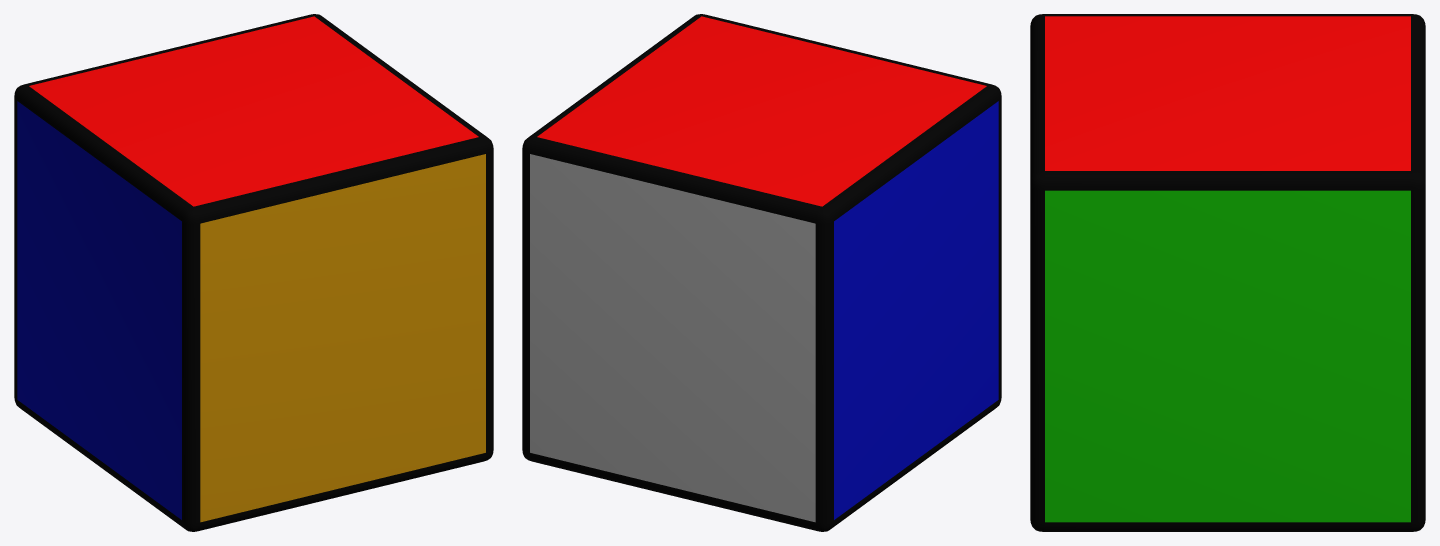
File: rubiks_cube.obj
3 views of the same model, side by side, from view 1: azimuth 30°, elevation 25°; view 2: azimuth 150°, elevation 25°; view 3: azimuth 270°, elevation 25° (orthographic). The views are drawn at different scales.
Visible parts, largest first — view 1: Cube; view 2: Cube; view 3: Cube.
Boxes of the visible parts, x1,y1,x2,y2 form: Cube: (14,14,493,531); Cube: (522,14,1001,531); Cube: (1030,14,1425,531).
Size of the model in its own units: 2 by 2 by 2.
